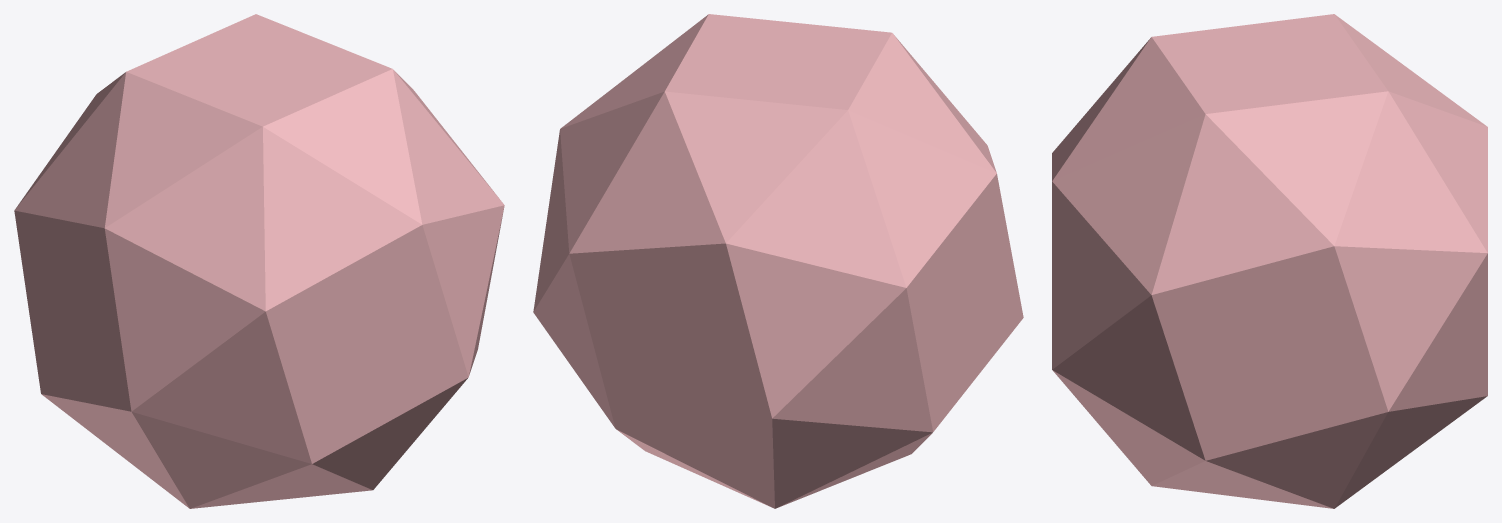
The model's file is fractalsnubcube0.glb.
3 renders of one model, left to right at view 1: azimuth 30°, elevation 25°; view 2: azimuth 150°, elevation 25°; view 3: azimuth 270°, elevation 25°, orthographic.
Size of the model in its own units: 10.26 by 10.26 by 10.26.
